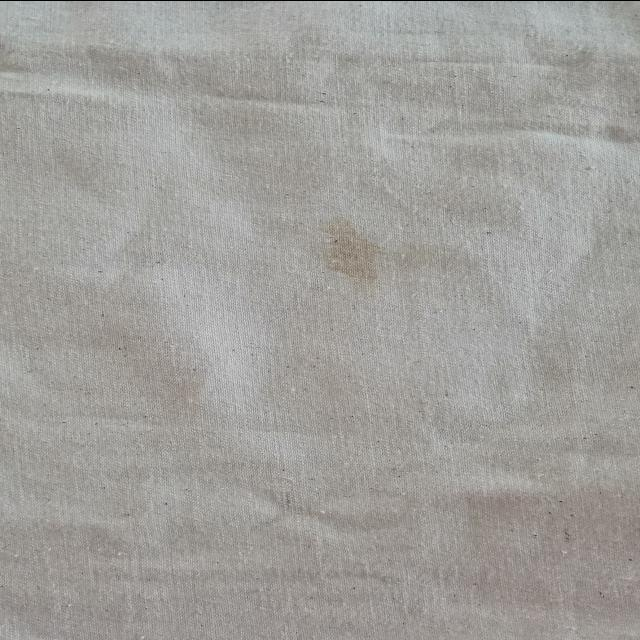taaaches: (292, 209, 390, 295)
